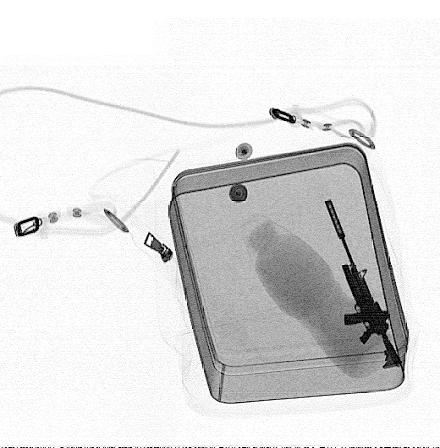Gun: (323, 196, 404, 371)
